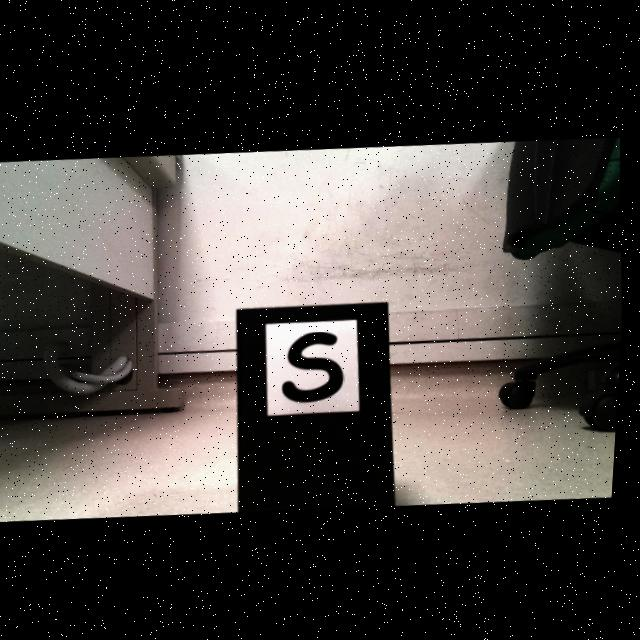S: (287, 330, 348, 401)
